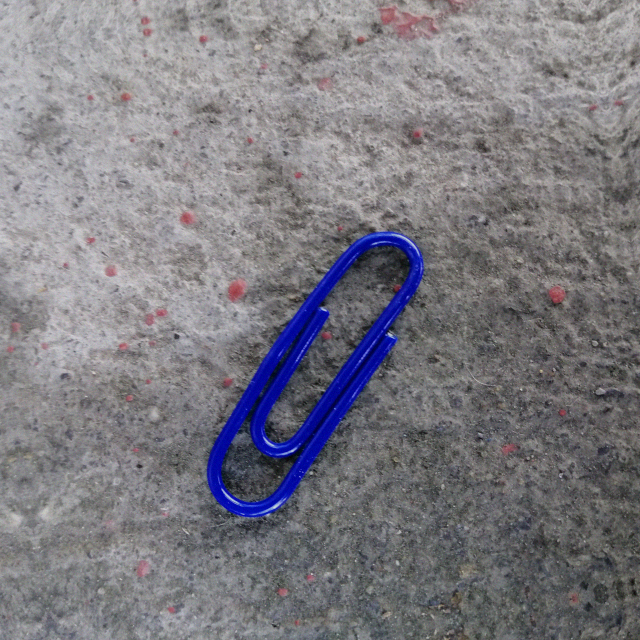pin: (173, 224, 459, 533)
